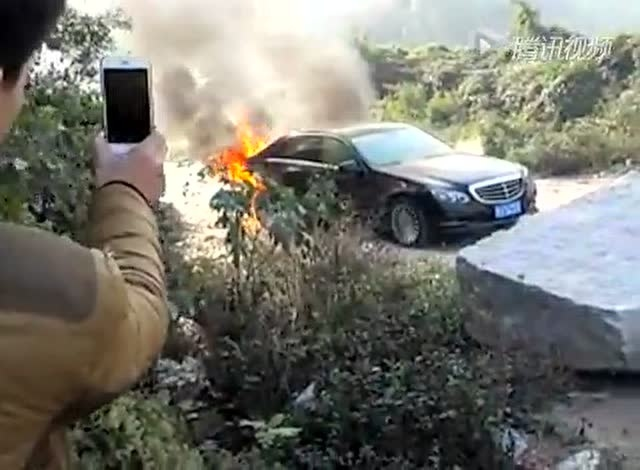fire: (217, 125, 267, 189)
